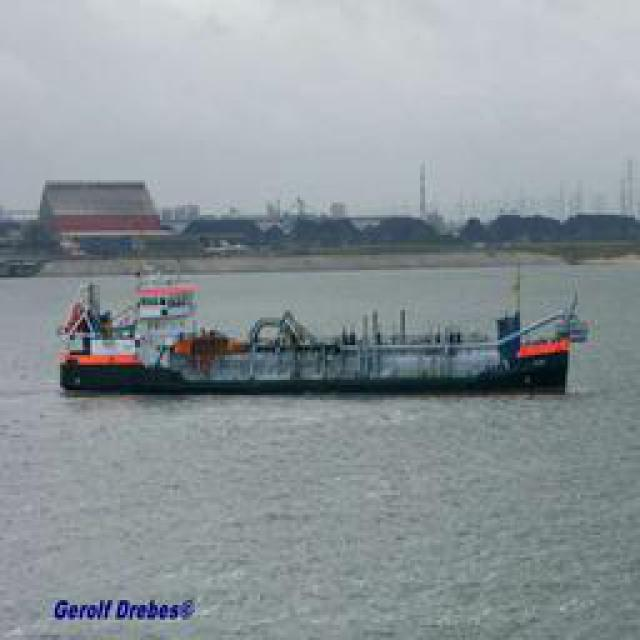Ship: (52, 282, 582, 400)
